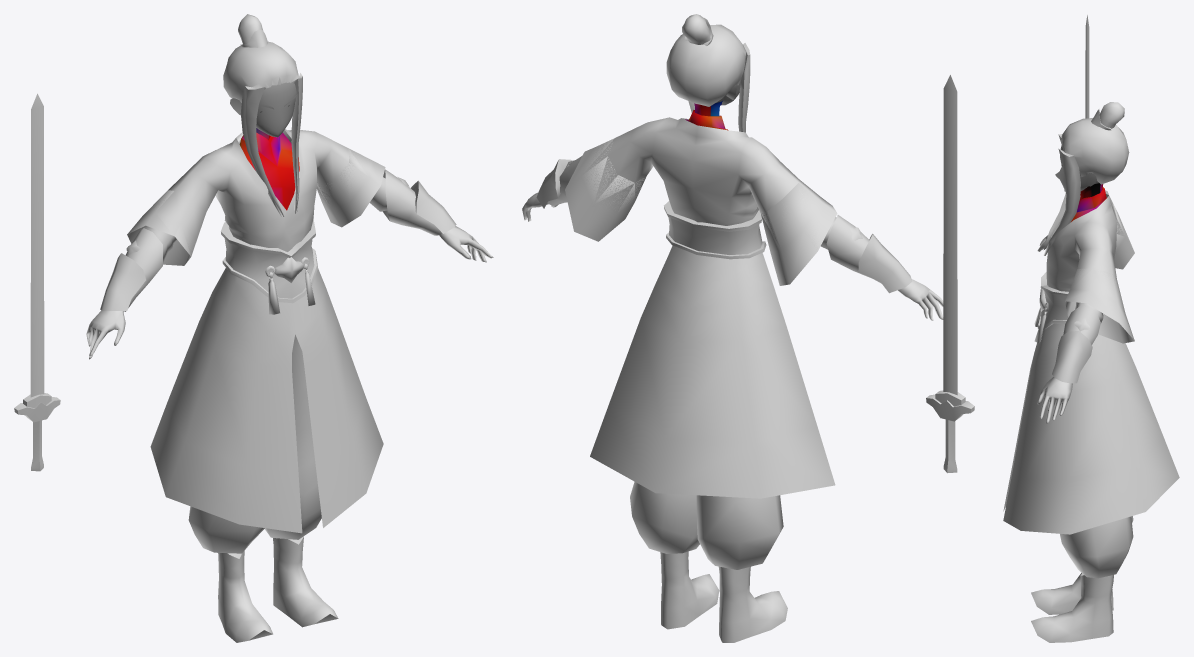
The model's file is m_015_sword_soldier_3_view.fbx.
3 renders of one model, left to right at view 1: azimuth 30°, elevation 25°; view 2: azimuth 150°, elevation 25°; view 3: azimuth 270°, elevation 25°, orthographic. The views are drawn at different scales.
Visible parts, largest first — view 1: m_015_sword_soldier_3; view 2: m_015_sword_soldier_3; view 3: m_015_sword_soldier_3.
Part boxes in pixels (x1,y1,x2,y2): m_015_sword_soldier_3: (14,14,493,642); m_015_sword_soldier_3: (522,14,974,642); m_015_sword_soldier_3: (1003,15,1179,642).
Size of the model in its own units: 183 by 229 by 70.42.
